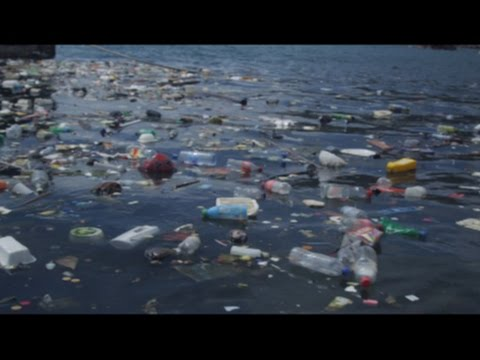litter: (30, 113, 144, 177), (68, 55, 181, 101), (137, 232, 205, 274), (289, 238, 353, 282), (208, 182, 271, 225), (219, 233, 280, 272), (2, 159, 52, 203), (113, 212, 165, 254), (367, 175, 433, 204), (2, 56, 51, 92), (196, 202, 261, 229), (5, 97, 53, 130), (260, 170, 305, 205), (1, 230, 41, 269), (323, 178, 378, 204), (356, 246, 389, 289), (261, 106, 305, 131), (311, 145, 352, 170), (171, 148, 223, 167), (224, 157, 268, 177), (385, 152, 420, 172)
